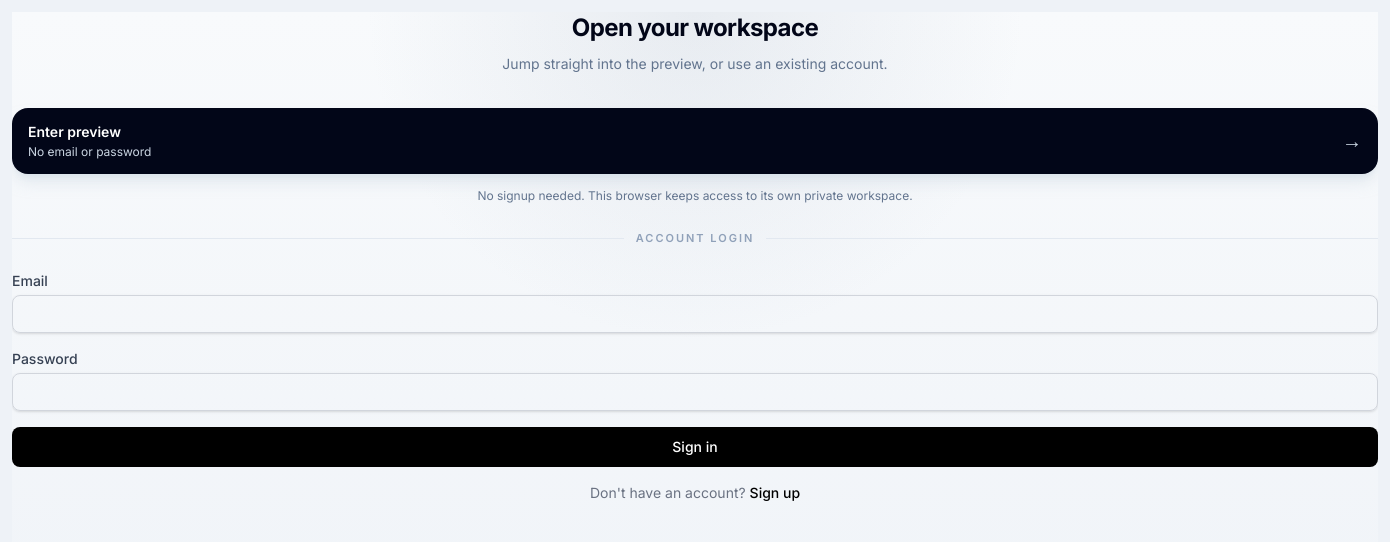
LoginForm › client-side validation › shows error for invalid email on submit
In the field labelled "Email": {"x": 695, "y": 314} left=12, top=294, right=1378, bottom=332, type "not-an-email"
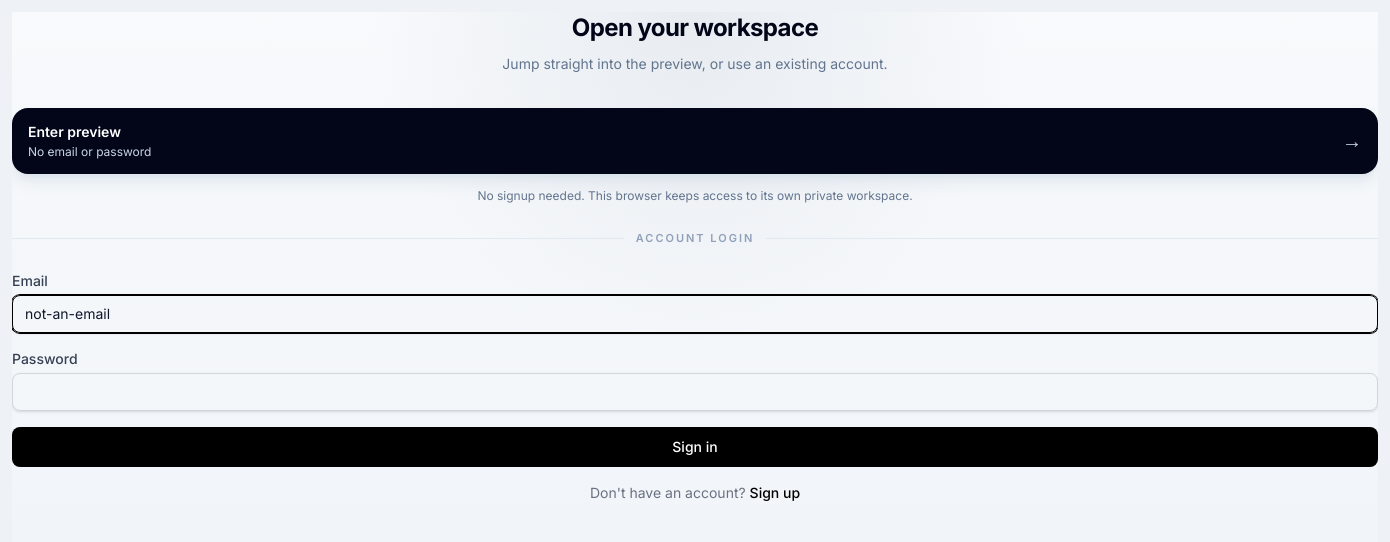
In the password field labelled "Password": {"x": 695, "y": 392} left=12, top=372, right=1378, bottom=410, type "somepassword"
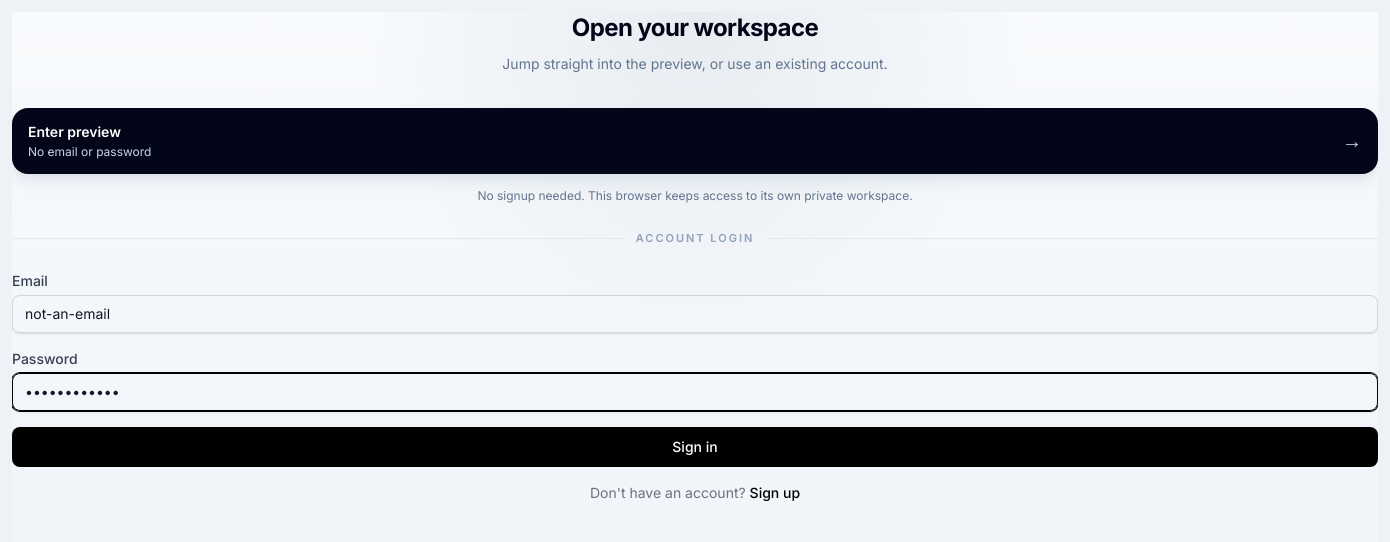
Click the button "Sign in": {"x": 695, "y": 446} left=12, top=426, right=1378, bottom=466
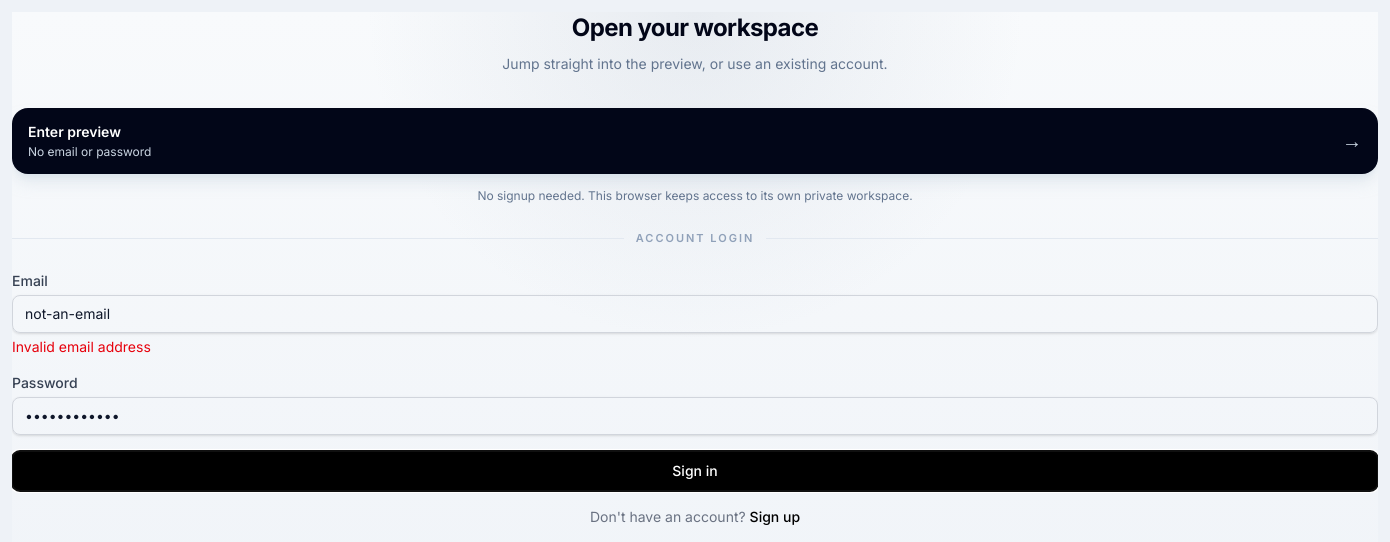
Now the message shows "email", box left=12, top=338, right=151, bottom=354
